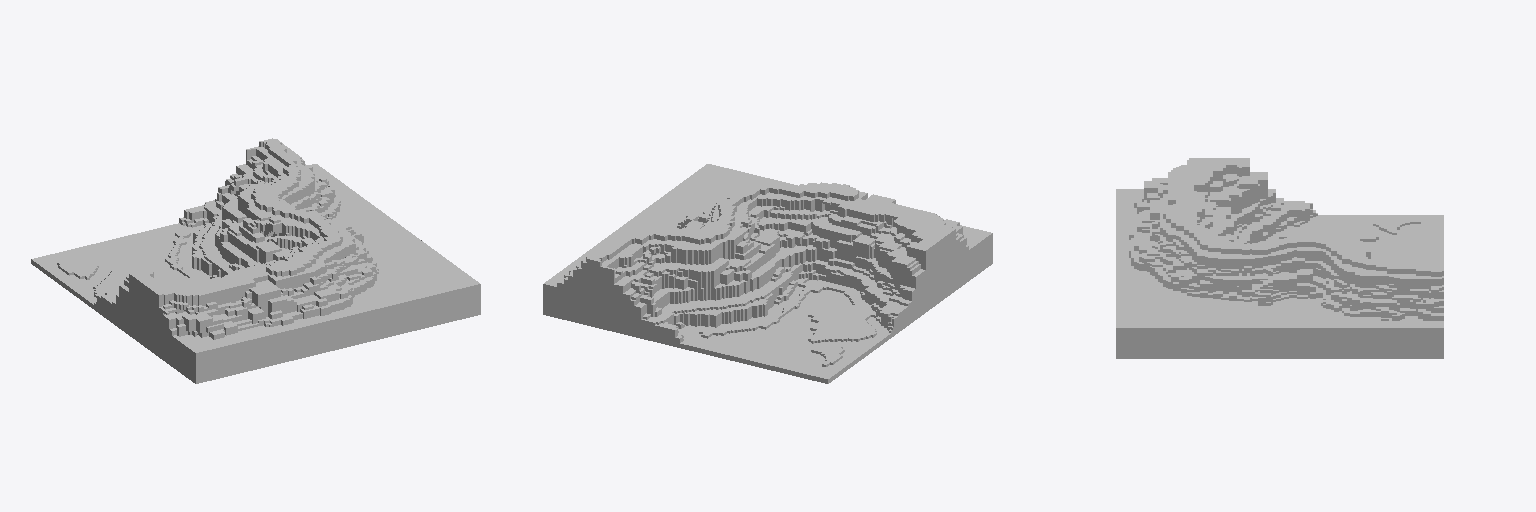
The model's file is Map (33).obj.
3 renders of one model, left to right at view 1: azimuth 30°, elevation 25°; view 2: azimuth 150°, elevation 25°; view 3: azimuth 270°, elevation 25°, orthographic.
Visible parts, largest first — view 1: ALL MAP!!!!!!!!!!!-30; view 2: ALL MAP!!!!!!!!!!!-30; view 3: ALL MAP!!!!!!!!!!!-30.
Part boxes in pixels (x1,y1,x2,y2): ALL MAP!!!!!!!!!!!-30: (31, 138, 480, 383); ALL MAP!!!!!!!!!!!-30: (543, 164, 992, 383); ALL MAP!!!!!!!!!!!-30: (1116, 158, 1443, 358).
Bounding box in the file's own units: 125 × 28 × 125.